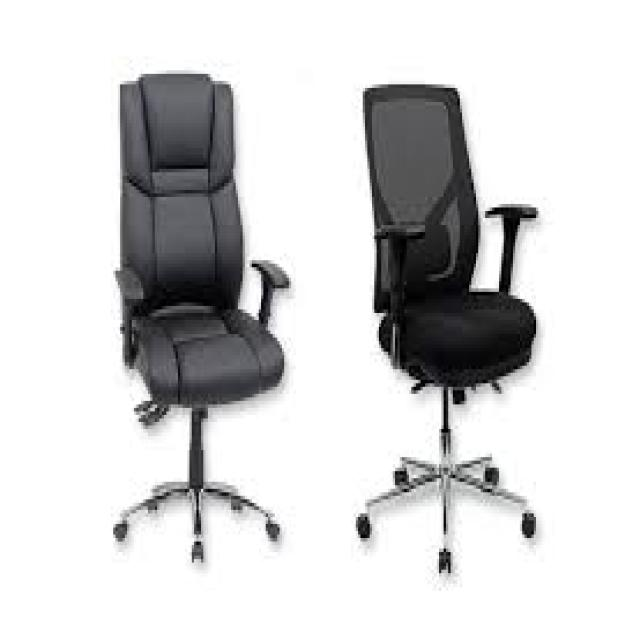chair: (318, 51, 562, 640), (72, 47, 307, 590)
